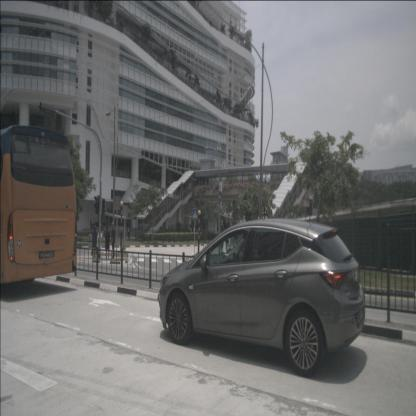human-pedestrian-adult: (89, 226, 97, 259), (110, 223, 116, 259), (105, 226, 110, 259), (97, 227, 102, 260), (127, 225, 131, 240), (190, 226, 192, 237), (193, 227, 195, 237)
vehicle-bus-rigid: (0, 125, 77, 284)
vehicle-car: (158, 218, 366, 378)
